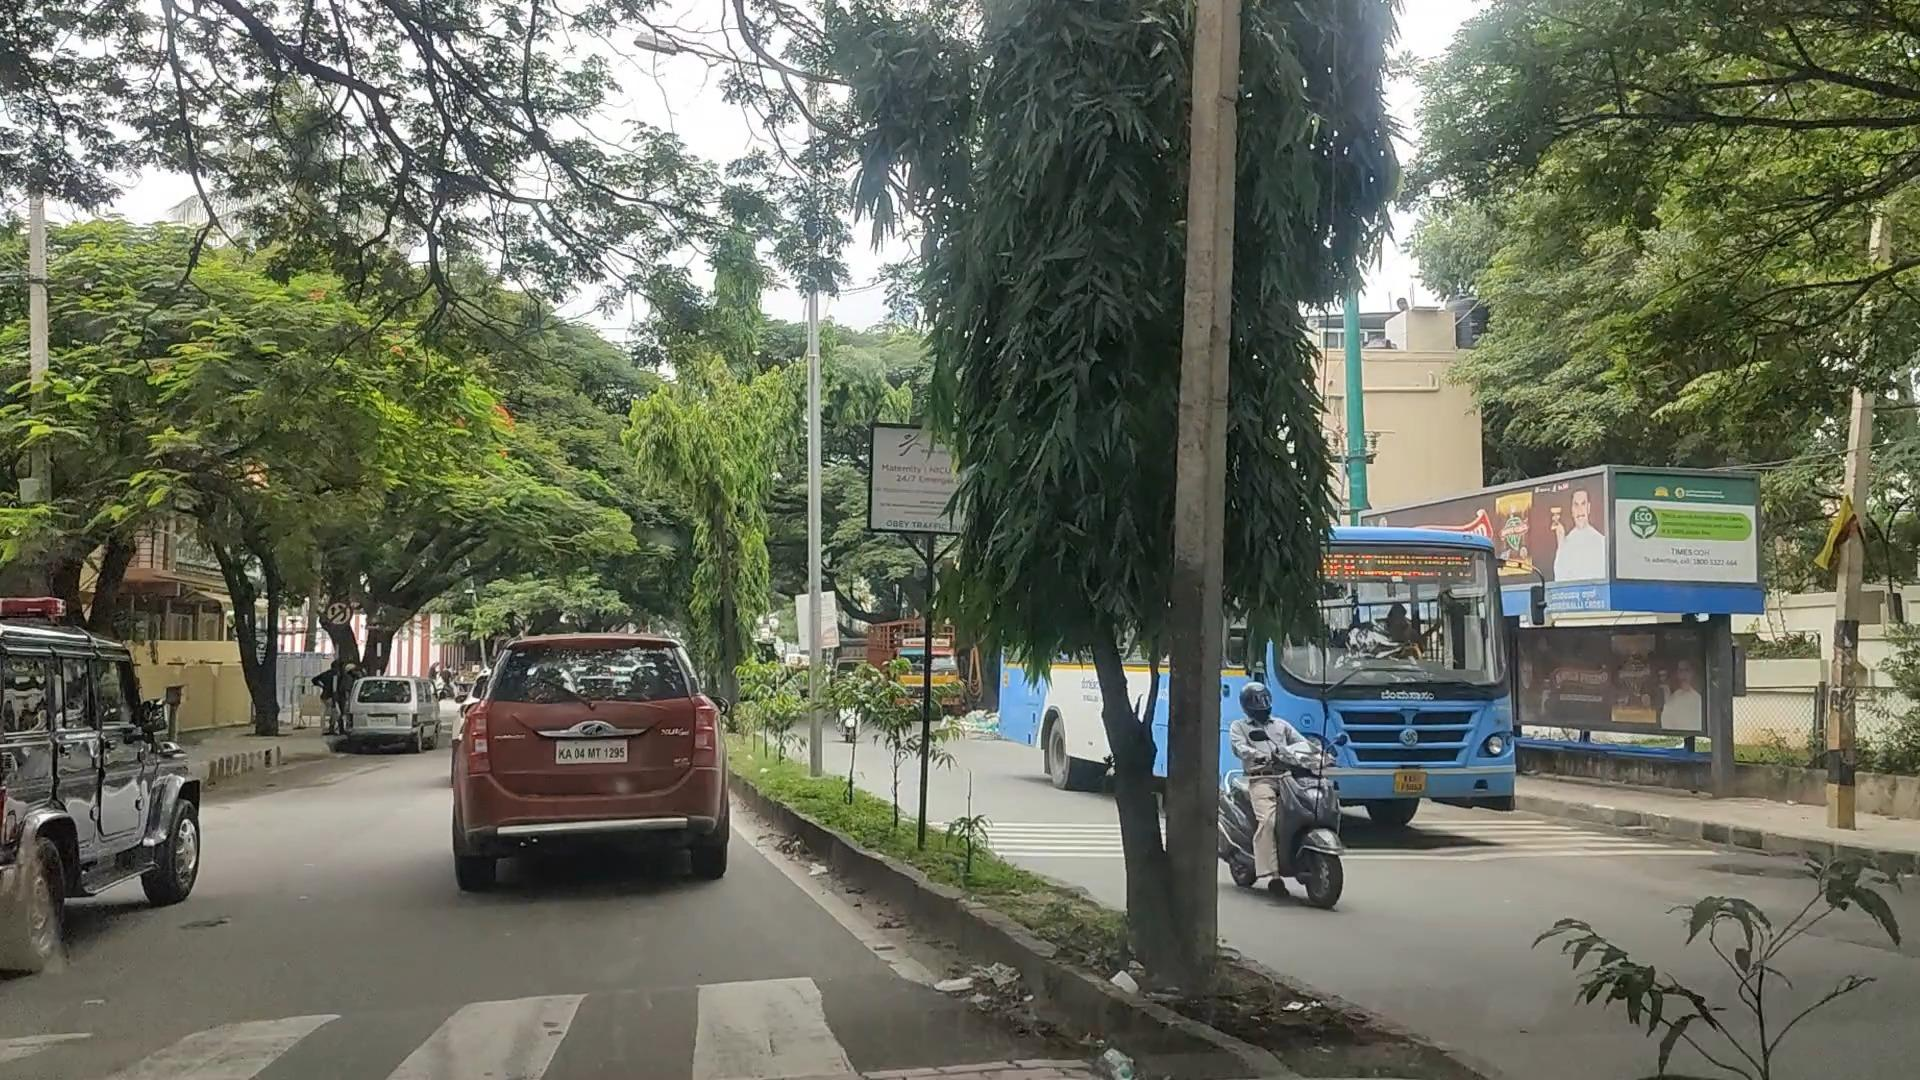LMV: (465, 633, 725, 868)
SpeedBump: (207, 1000, 943, 1080)
